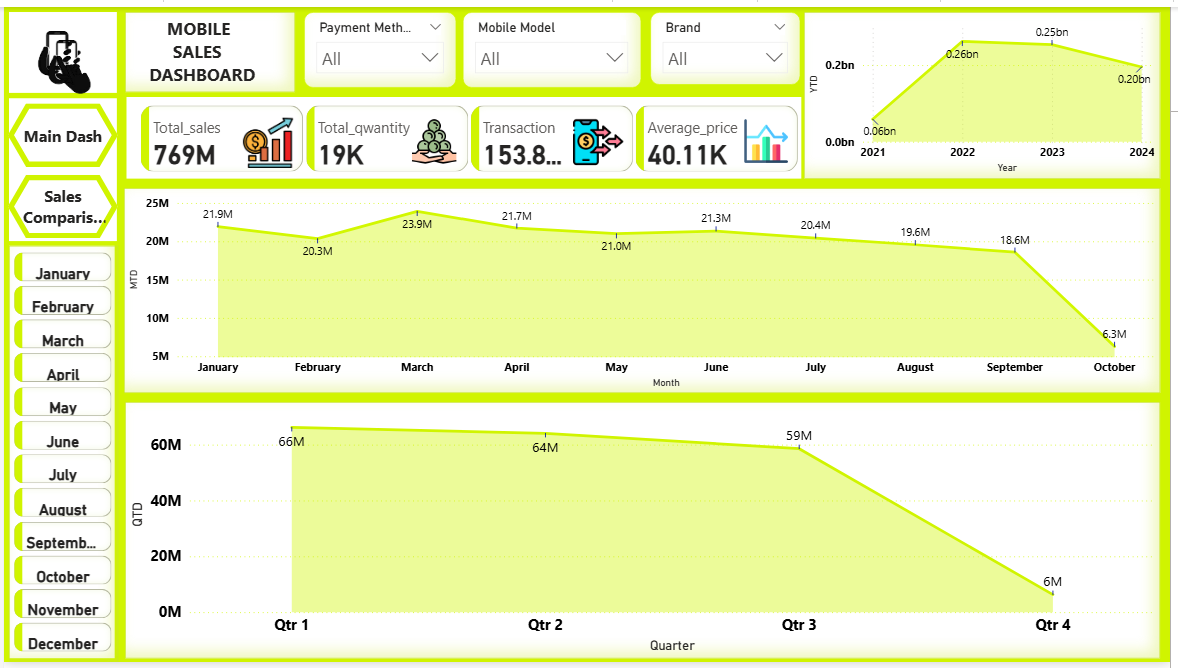

The page's visual inventory and layout, read from the dashboard file:
{"tool":"powerbi","page":{"name":"Performance ","canvas":[1280,720],"ordinal":1},"visuals":[{"type":"textbox","box":[5,262,116,453],"z":0},{"type":"textbox","box":[5,5,118,89.2],"z":1000},{"type":"image","box":[0,0,122.1,112.5],"z":2000},{"type":"textbox","box":[5,100,118,156.4],"z":3000},{"type":"image","box":[1.4,0,122.1,112.5],"z":4000},{"type":"lineChart","fields":{"Category":["customtable.Date.Variation.Date Hierarchy.Month"],"Y":["Key_Mesures .MTD"]},"box":[131.7,199,1137.6,225],"z":5000},{"type":"textbox","box":[134,99.4,741.1,89.6],"z":6000},{"type":"cardVisual","fields":{"Data":["Key_Mesures .Total_sales","Key_Mesures .Total_qwantity","Key_Mesures .Transaction","Key_Mesures .Average_price"]},"box":[144.8,101.8,732.5,84.7],"z":7000},{"type":"slicer","fields":{"Values":["Mobile_Sales_Data.Brand"]},"box":[710,5.7,165,80],"z":8000},{"type":"slicer","fields":{"Values":["Mobile_Sales_Data.Mobile Model"]},"box":[504.3,5.7,195.7,83],"z":9000},{"type":"image","box":[11.4,10,122.1,112.5],"z":10000},{"type":"slicer","fields":{"Values":["Mobile_Sales_Data.Payment Method"]},"box":[330,5.7,167.1,83],"z":11000},{"type":"textbox","box":[132.5,6.1,186.5,88.3],"z":12000},{"type":"advancedSlicerVisual","fields":{"Values":["customtable.Date.Variation.Date Hierarchy.Month"]},"box":[5.6,262,119.7,457.7],"z":13000},{"type":"pageNavigator","box":[3.7,105.5,121.5,149.7],"z":14000},{"type":"lineChart","fields":{"Category":["customtable.Date.Variation.Date Hierarchy.Quarter"],"Y":["Key_Mesures .QTD"]},"box":[133.1,433.6,1136.2,281.3],"z":15000},{"type":"lineChart","fields":{"Y":["Key_Mesures .MTD"],"Category":["customtable.Date.Variation.Date Hierarchy.Year"]},"box":[878.2,6,391.1,183],"z":16000}]}

Visuals, with their boxes in screenshot pixels (x1, y1, x2, y2), scaled from the page's 1280x720 canvas onto the 1178x668 screenshot:
textbox: locate(5, 243, 111, 663)
textbox: locate(5, 5, 113, 87)
image: locate(0, 0, 112, 104)
textbox: locate(5, 93, 113, 238)
image: locate(1, 0, 114, 104)
lineChart - customtable.Date.Variation.Date Hierarchy.Month x Key_Mesures .MTD: locate(121, 185, 1168, 393)
textbox: locate(123, 92, 805, 175)
cardVisual - Key_Mesures .Total_sales x Key_Mesures .Total_qwantity: locate(133, 94, 807, 173)
slicer - Mobile_Sales_Data.Brand: locate(653, 5, 805, 80)
slicer - Mobile_Sales_Data.Mobile Model: locate(464, 5, 644, 82)
image: locate(10, 9, 123, 114)
slicer - Mobile_Sales_Data.Payment Method: locate(304, 5, 457, 82)
textbox: locate(122, 6, 294, 88)
advancedSlicerVisual - customtable.Date.Variation.Date Hierarchy.Month: locate(5, 243, 115, 667)
pageNavigator: locate(3, 98, 115, 237)
lineChart - customtable.Date.Variation.Date Hierarchy.Quarter x Key_Mesures .QTD: locate(122, 402, 1168, 663)
lineChart - Key_Mesures .MTD x customtable.Date.Variation.Date Hierarchy.Year: locate(808, 6, 1168, 175)
